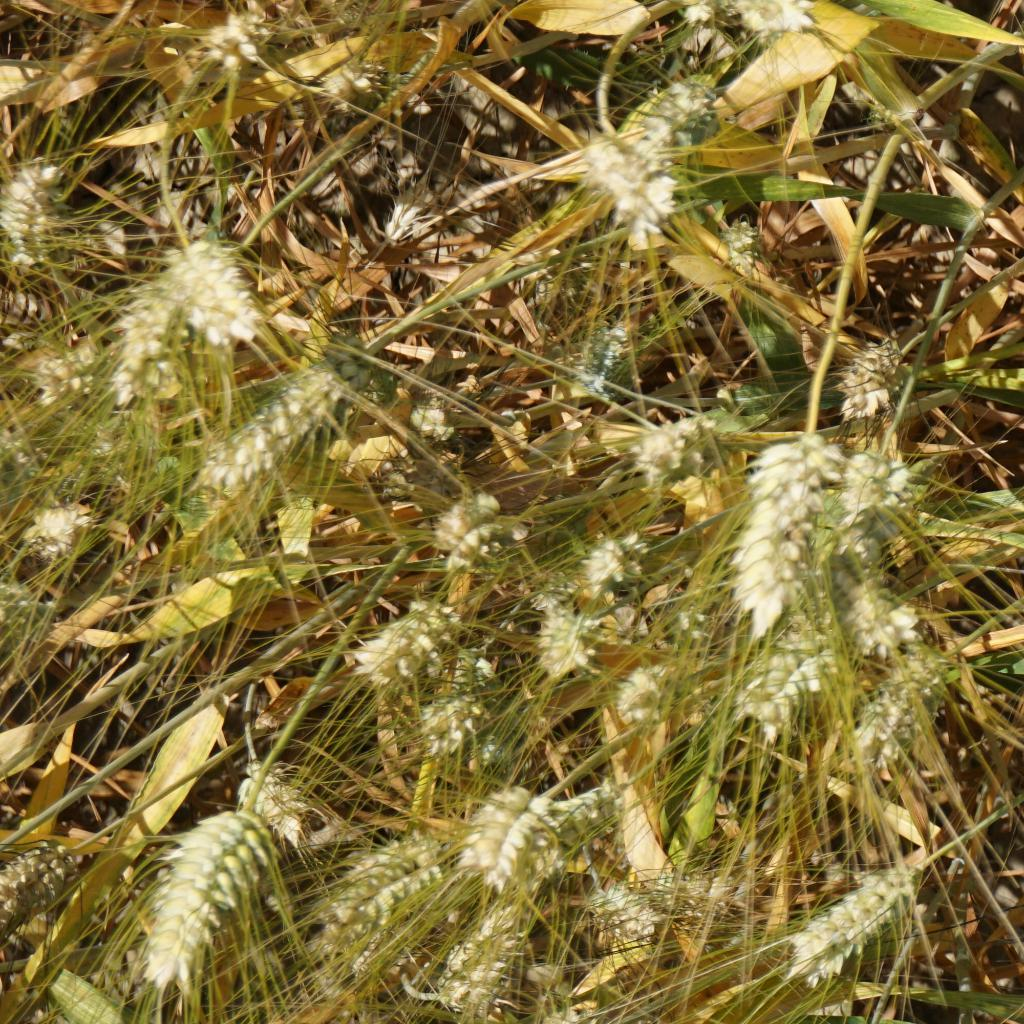0-0: (137, 793, 275, 974), (779, 850, 915, 995), (738, 429, 825, 616), (590, 123, 709, 240), (316, 826, 425, 953), (216, 368, 340, 478), (439, 891, 545, 1016), (837, 647, 941, 770), (163, 234, 273, 346), (100, 271, 195, 393), (419, 634, 512, 758), (639, 858, 752, 956), (310, 307, 404, 420), (0, 146, 72, 275), (228, 756, 334, 842), (835, 440, 942, 525), (830, 529, 907, 646), (417, 494, 527, 569), (545, 774, 644, 856), (21, 484, 116, 569), (190, 0, 281, 88), (368, 439, 467, 516), (360, 592, 451, 675), (464, 781, 545, 872), (744, 633, 823, 726), (567, 315, 650, 403), (840, 338, 923, 425), (581, 527, 663, 614), (0, 852, 80, 939), (644, 80, 736, 153), (635, 401, 722, 474), (523, 602, 604, 675), (314, 46, 408, 107), (581, 860, 657, 935), (376, 171, 445, 249), (0, 580, 65, 657), (610, 659, 677, 730), (681, 0, 823, 33), (715, 211, 778, 282), (854, 92, 914, 140), (314, 0, 396, 18)
